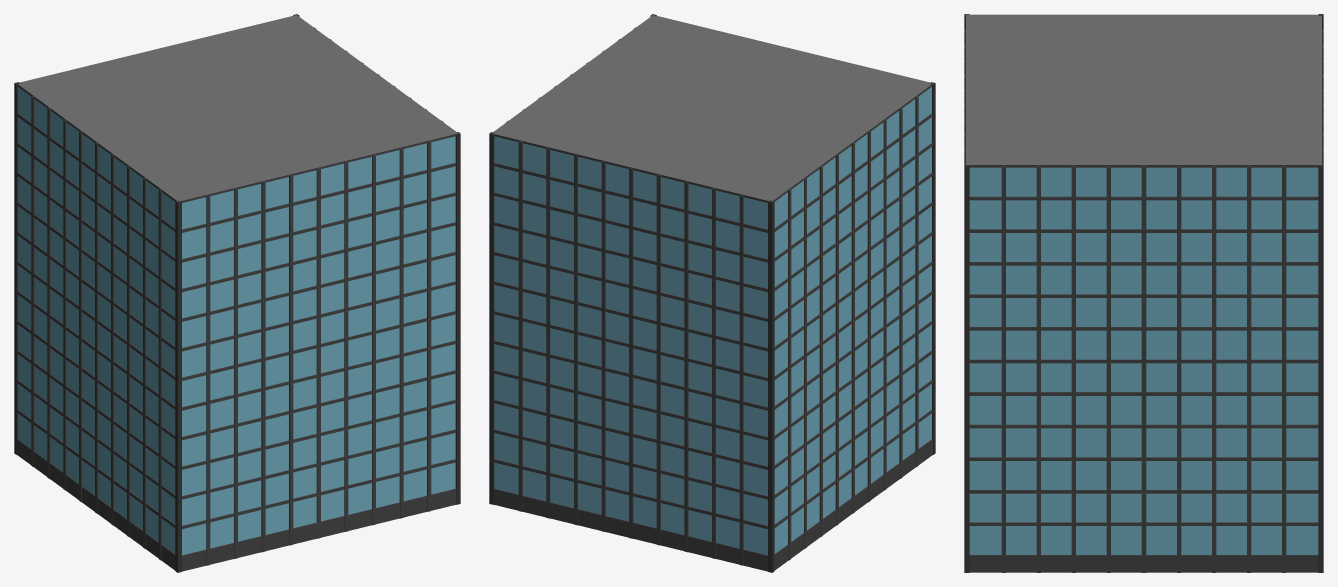
Rendered from House_Main.fbx.
3 renders of one model, left to right at view 1: azimuth 30°, elevation 25°; view 2: azimuth 150°, elevation 25°; view 3: azimuth 270°, elevation 25°, orthographic. The views are drawn at different scales.
Visible parts, largest first — view 1: House_Main; view 2: House_Main; view 3: House_Main.
Boxes of the visible parts, x1,y1,x2,y2 form: House_Main: (14, 14, 460, 572); House_Main: (489, 14, 935, 572); House_Main: (964, 14, 1323, 572).
Bounding box in the file's own units: 4000 × 5000 × 4000.
